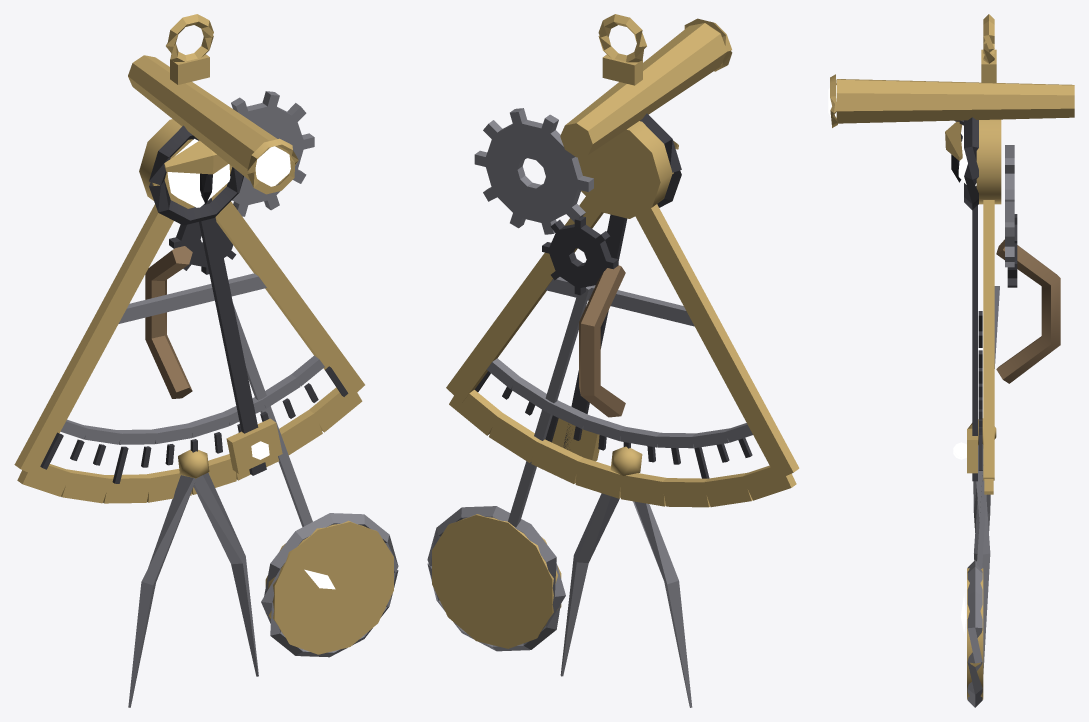
The model's file is astrolabe-dead-reckoner.glb.
The picture shows the model from 3 angles, left to right: view 1: azimuth 30°, elevation 25°; view 2: azimuth 150°, elevation 25°; view 3: azimuth 270°, elevation 25°; orthographic projection. The views are drawn at different scales.
Visible parts, largest first — view 1: astrolabe_dead_reckoner; view 2: astrolabe_dead_reckoner; view 3: astrolabe_dead_reckoner.
Boxes of the visible parts, left/top/right/bottom form: astrolabe_dead_reckoner: left=14, top=14, right=398, bottom=707; astrolabe_dead_reckoner: left=427, top=14, right=799, bottom=707; astrolabe_dead_reckoner: left=828, top=14, right=1074, bottom=707.
Size of the model in its own units: 0.4583 by 0.7892 by 0.2804.
